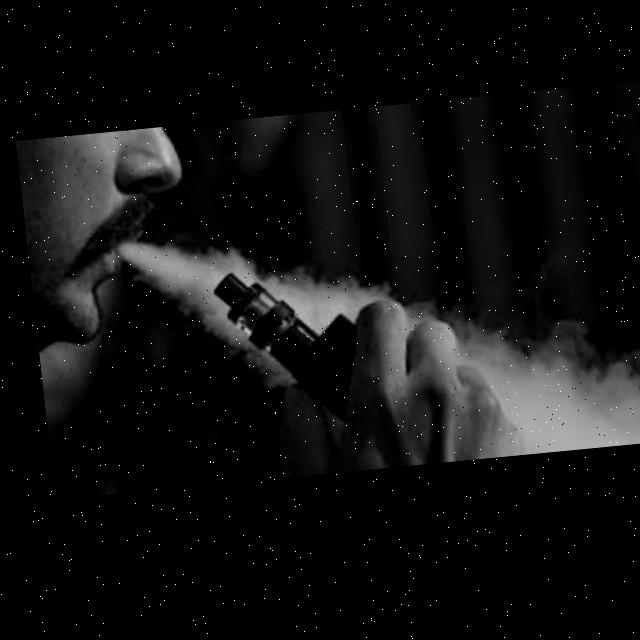vape: (204, 267, 354, 436)
